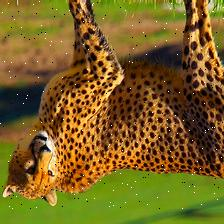Cheetha: (0, 0, 224, 208)
